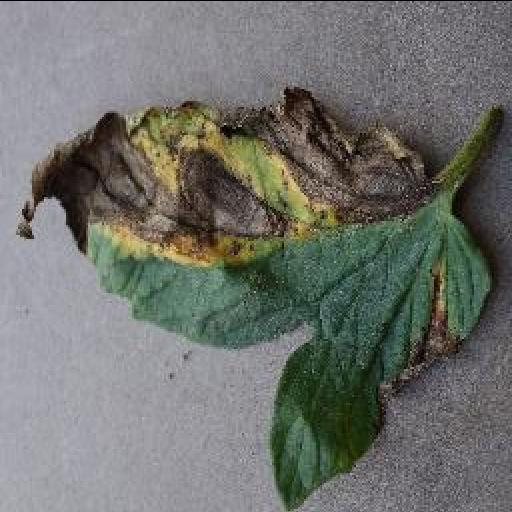disease_tomato: (14, 84, 492, 506)
